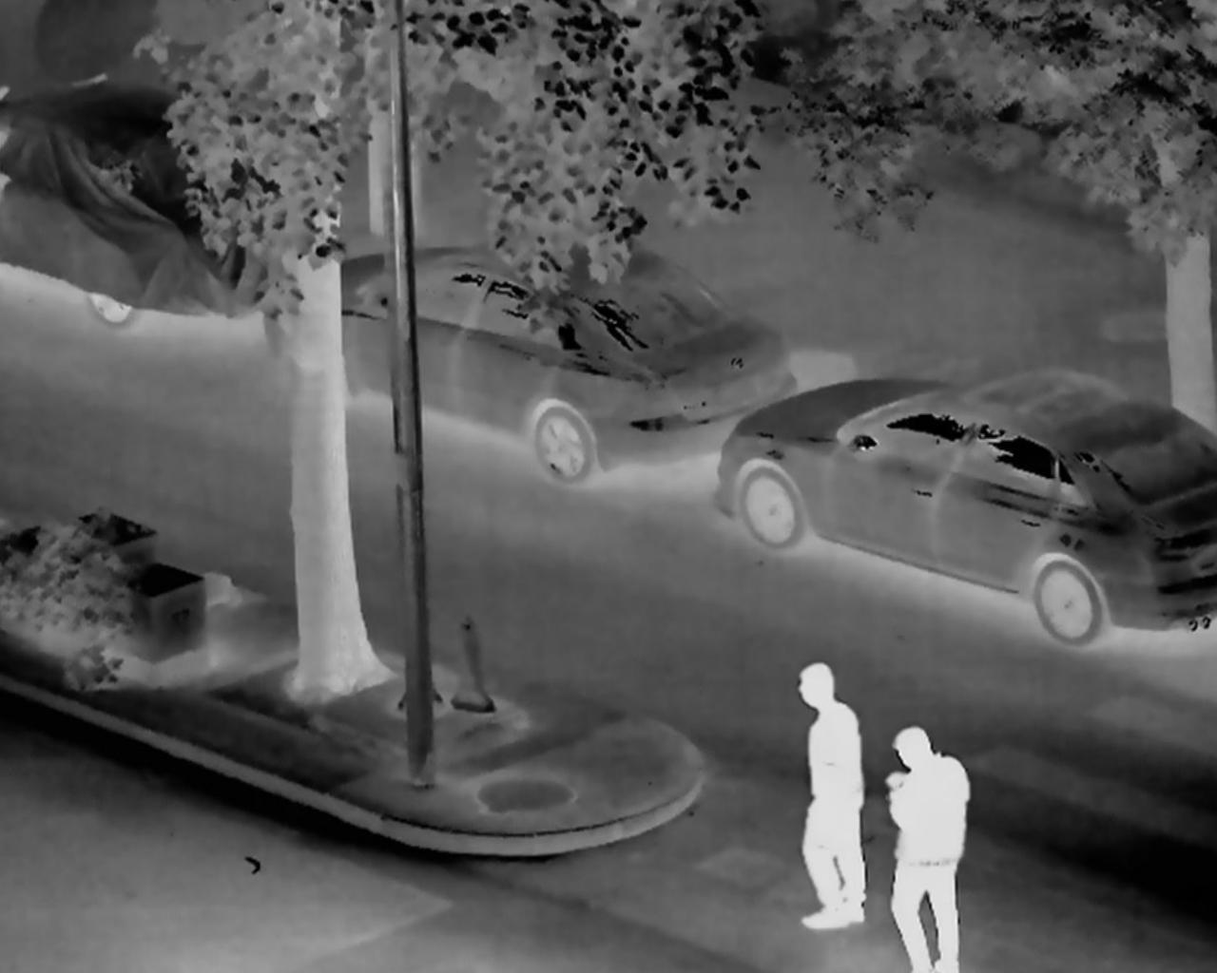person: (763, 661, 880, 935), (886, 721, 976, 973)
